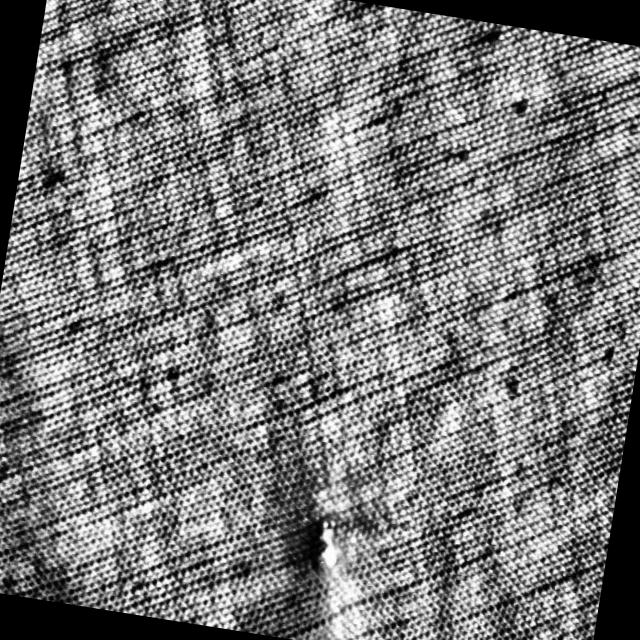cut: (309, 511, 349, 574)
